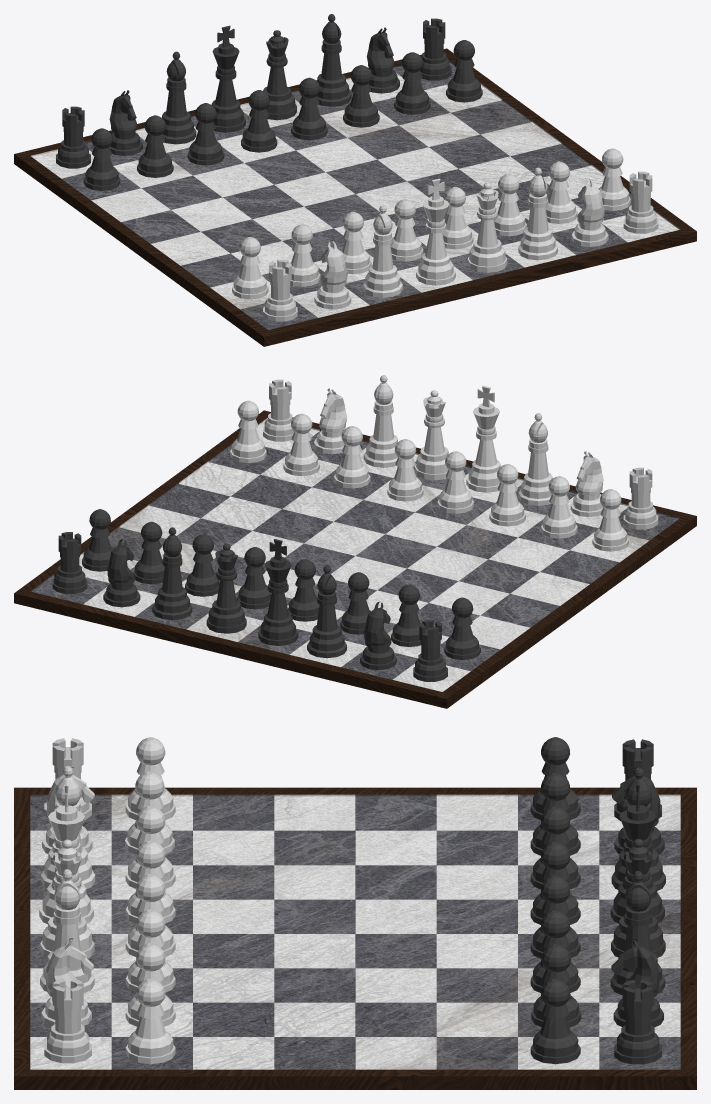
Rendered from chess_board_and_pieces.glb.
The picture shows the model from 3 angles, top to bottom: view 1: azimuth 30°, elevation 25°; view 2: azimuth 150°, elevation 25°; view 3: azimuth 270°, elevation 25°; orthographic projection. The views are drawn at different scales.
Parts seen in each view (by area): view 1: Chess/Draughts Board, LightKing, DarkKing, LightQueen, LightBishop2, LightBishop1, DarkBishop1, DarkBishop2, DarkQueen, LightKnight1, LightKnight2, LightRook2 (+21 smaller); view 2: Chess/Draughts Board, DarkKing, LightKing, DarkQueen, DarkBishop2, DarkBishop1, LightQueen, LightBishop2, LightBishop1, DarkKnight1, DarkKnight2, LightRook1 (+21 smaller); view 3: Chess/Draughts Board, LightRook2, DarkRook1, LightPawn8, DarkPawn1, LightBishop2, DarkBishop1, DarkKing, LightKing, DarkQueen, DarkKnight1, LightKnight2 (+21 smaller).
Part boxes in pixels (<box>): Chess/Draughts Board: <box>14,48,696,346</box>; LightKing: <box>416,178,455,285</box>; DarkKing: <box>211,25,245,132</box>; LightQueen: <box>467,183,507,272</box>; LightBishop2: <box>518,167,557,260</box>; LightBishop1: <box>363,205,402,297</box>; DarkBishop1: <box>317,14,351,106</box>; DarkBishop2: <box>162,51,196,144</box>; DarkQueen: <box>263,30,296,120</box>; LightKnight1: <box>314,241,351,309</box>; LightKnight2: <box>571,178,608,246</box>; LightRook2: <box>623,171,658,233</box>; Chess/Draughts Board: <box>14,410,696,708</box>; DarkKing: <box>258,539,298,645</box>; LightKing: <box>466,385,500,492</box>; DarkQueen: <box>206,543,246,633</box>; DarkBishop2: <box>307,565,346,658</box>; DarkBishop1: <box>152,527,192,620</box>; LightQueen: <box>414,390,448,480</box>; LightBishop2: <box>363,375,397,467</box>; LightBishop1: <box>518,413,552,505</box>; DarkKnight1: <box>103,539,140,607</box>; DarkKnight2: <box>360,601,396,670</box>; LightRook1: <box>623,467,658,529</box>; Chess/Draughts Board: <box>14,787,696,1089</box>; LightRook2: <box>44,978,91,1063</box>; DarkRook1: <box>614,980,661,1064</box>; LightPawn8: <box>125,978,175,1064</box>; DarkPawn1: <box>530,978,580,1064</box>; LightBishop2: <box>40,869,94,993</box>; DarkBishop1: <box>610,871,665,995</box>; DarkKing: <box>610,780,664,923</box>; LightKing: <box>39,780,93,924</box>; DarkQueen: <box>611,838,665,957</box>; DarkKnight1: <box>611,938,663,1027</box>; LightKnight2: <box>41,937,93,1026</box>.
Bounding box in the file's own units: 0.5685 × 0.1337 × 0.5685.
5 materials, 5 textured.
